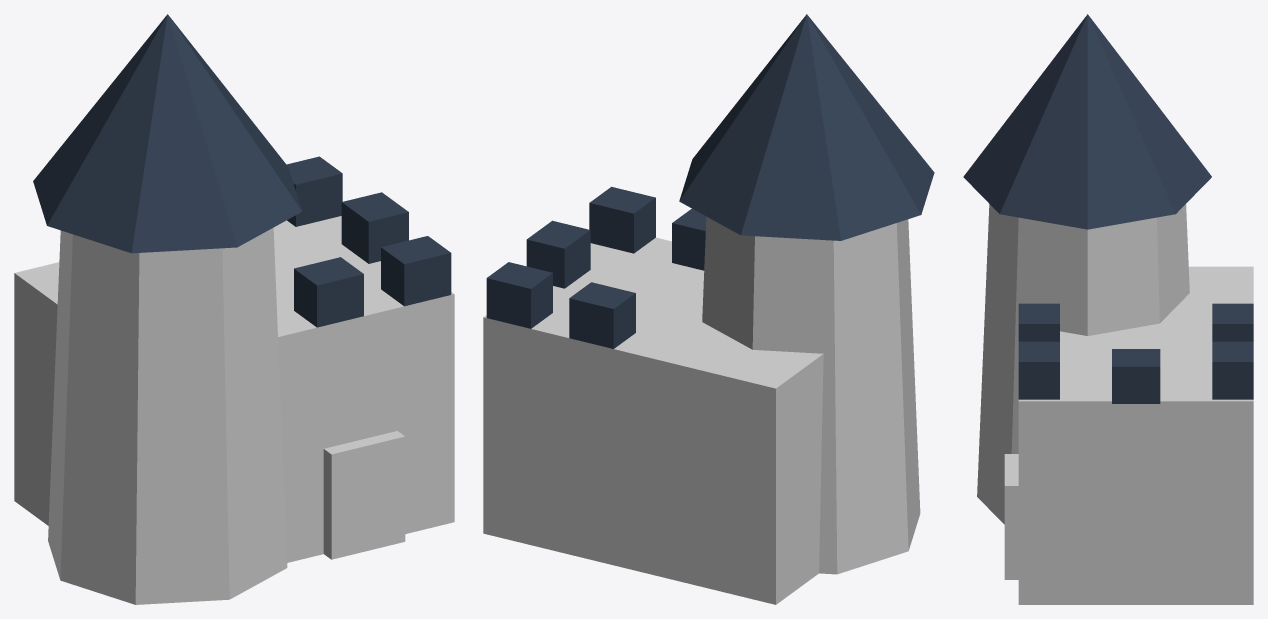
File: city.glb
3 views of the same model, side by side, from view 1: azimuth 30°, elevation 25°; view 2: azimuth 150°, elevation 25°; view 3: azimuth 270°, elevation 25° (orthographic). The views are drawn at different scales.
Parts seen in each view (by area): view 1: CityBody, CityRoof; view 2: CityBody, CityRoof; view 3: CityBody, CityRoof.
Part boxes in pixels (box(x1,y1,x2,y2)): CityBody: box(14, 216, 454, 604); CityRoof: box(33, 14, 451, 327); CityBody: box(483, 216, 920, 604); CityRoof: box(486, 14, 934, 348); CityBody: box(977, 204, 1253, 604); CityRoof: box(963, 14, 1253, 403).
Bounding box in the file's own units: 1.12 × 1.54 × 0.84.
